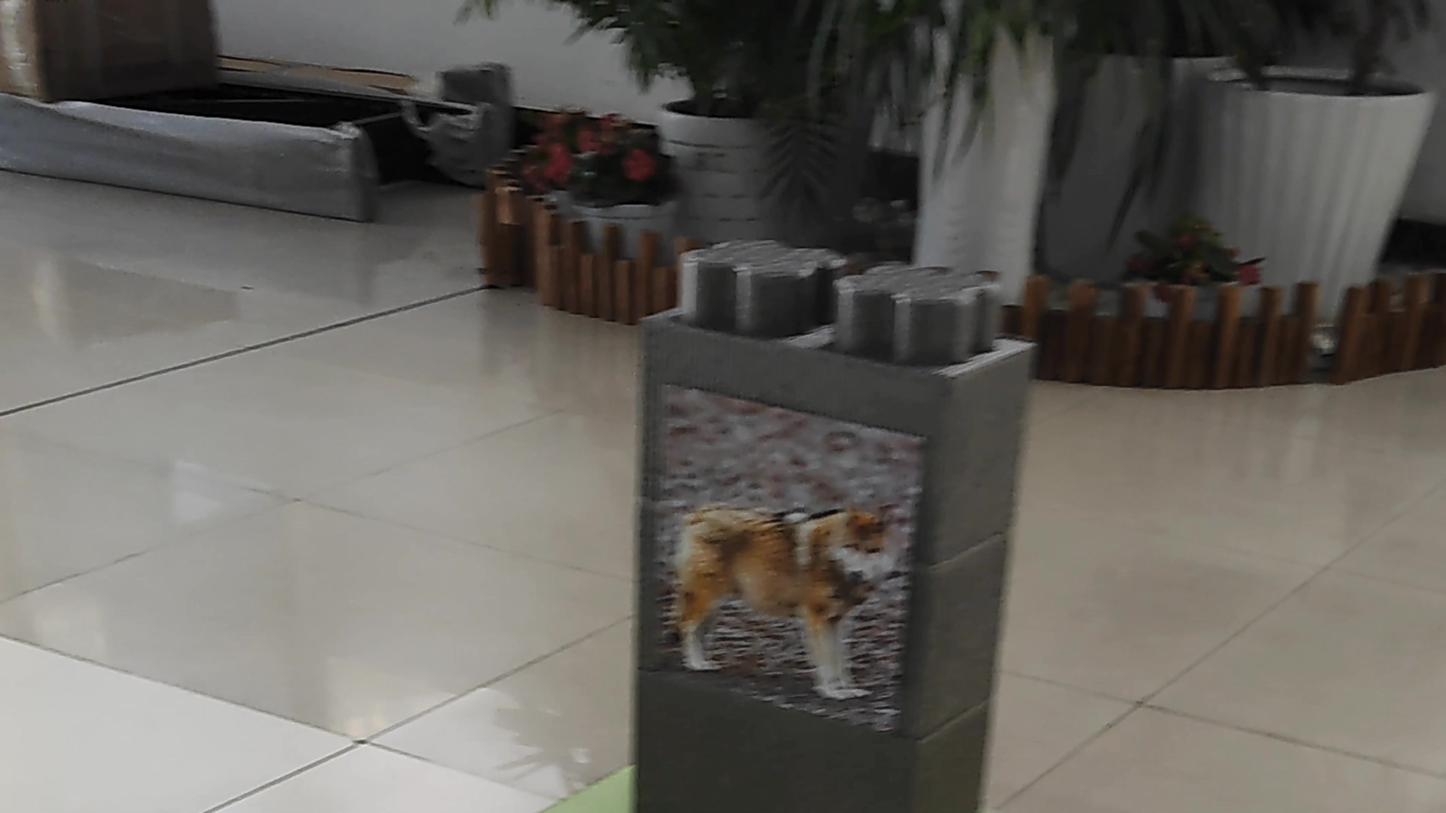wolf: (653, 435, 911, 696)
